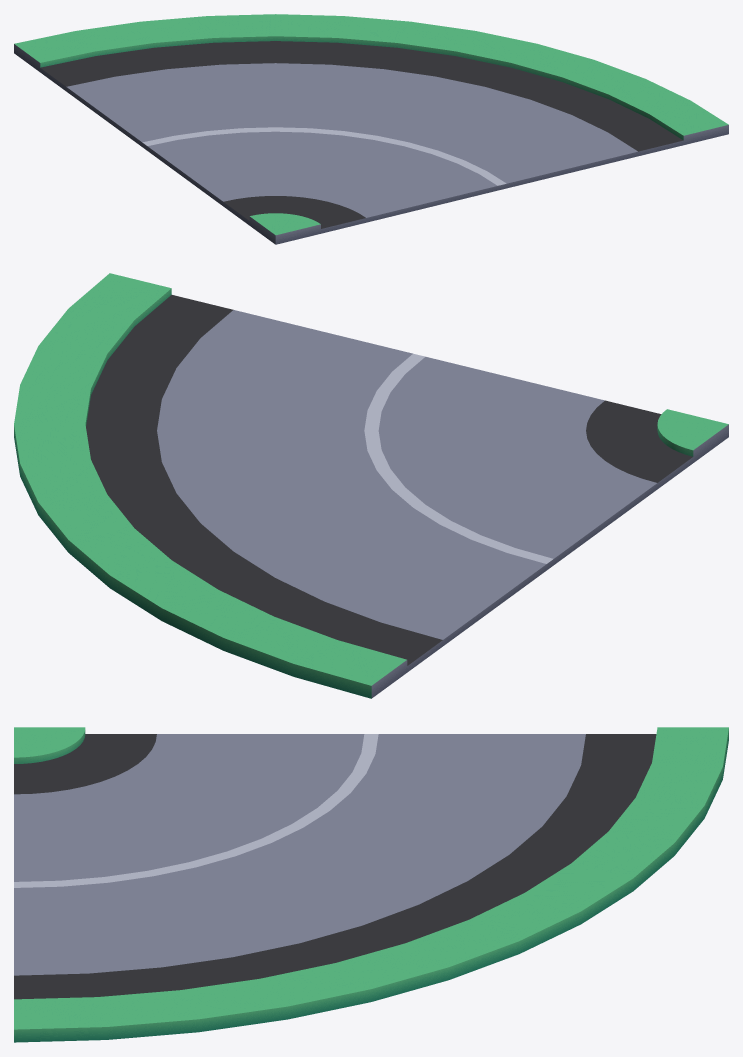
The model's file is road_bend.glb.
3 renders of one model, top to bottom at view 1: azimuth 30°, elevation 25°; view 2: azimuth 150°, elevation 25°; view 3: azimuth 270°, elevation 25°, orthographic. The views are drawn at different scales.
Parts seen in each view (by area): view 1: road-bend; view 2: road-bend; view 3: road-bend.
Boxes of the visible parts, x1,y1,x2,y2 form: road-bend: (14,14,728,244); road-bend: (14,273,728,698); road-bend: (14,727,728,1042).
Size of the model in its own units: 1 by 0.02 by 1.
1 material, 1 textured.
